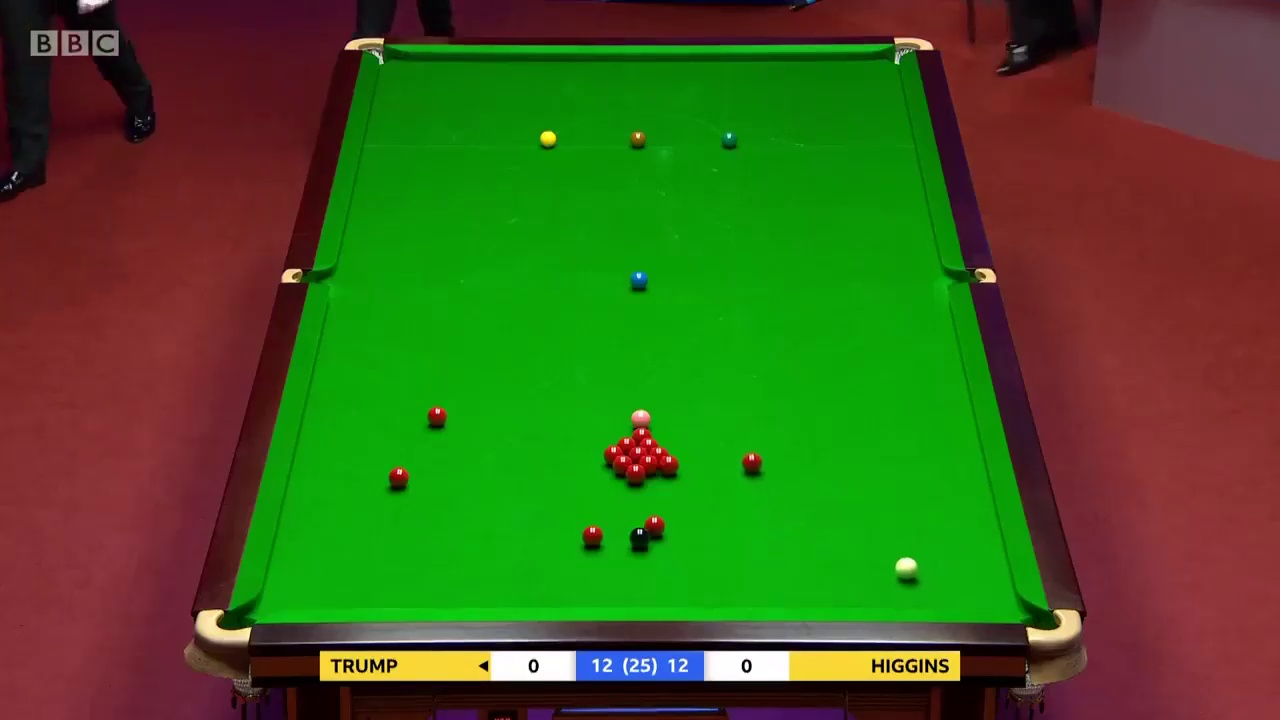black: (629, 529, 649, 548)
blue: (630, 269, 649, 289)
brown: (629, 130, 648, 147)
green: (720, 128, 738, 147)
pink: (631, 411, 652, 426)
red: (388, 465, 410, 491), (743, 451, 762, 473), (659, 455, 678, 476), (584, 525, 602, 547), (612, 456, 630, 477), (628, 464, 645, 486), (427, 407, 445, 426)
white: (896, 559, 917, 581)
yellow: (538, 128, 559, 148)
